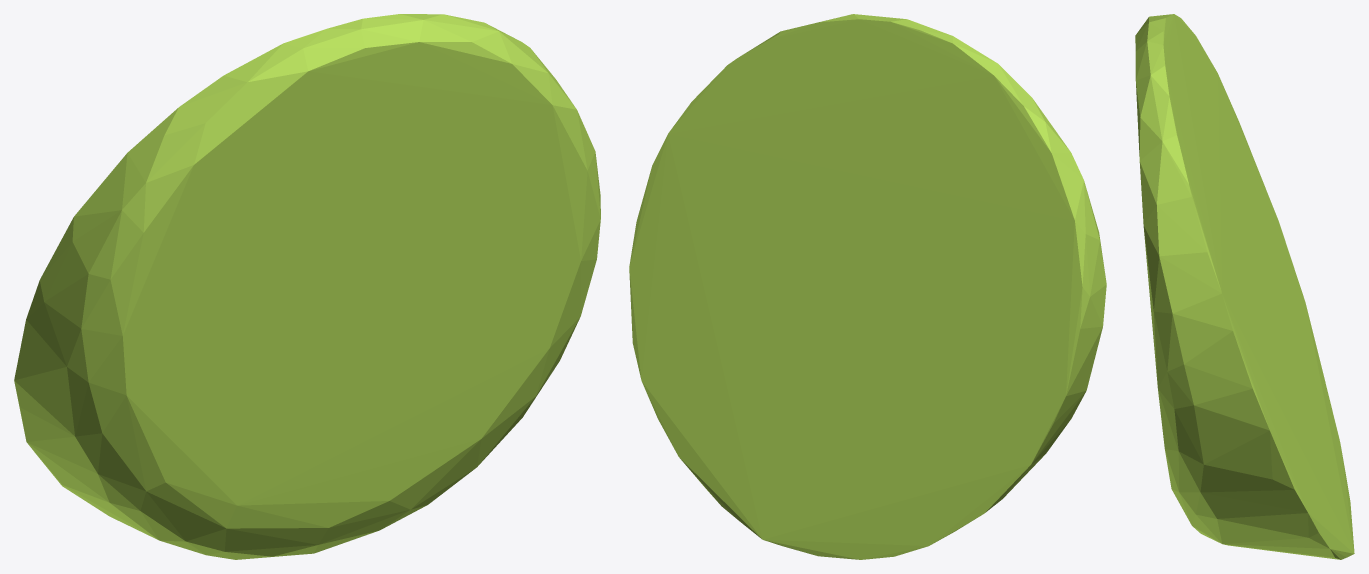
Rendered from ur10e_link_coll_1.dae.
3 views of the same model, side by side, from view 1: azimuth 30°, elevation 25°; view 2: azimuth 150°, elevation 25°; view 3: azimuth 270°, elevation 25° (orthographic). The views are drawn at different scales.
Visible parts, largest first — view 1: node; view 2: node; view 3: node.
Part boxes in pixels (x1,y1,x2,y2): node: (14,14,600,559); node: (629,14,1106,559); node: (1135,14,1354,559).
Size of the model in its own units: 0.1502 by 0.1508 by 0.0605.
